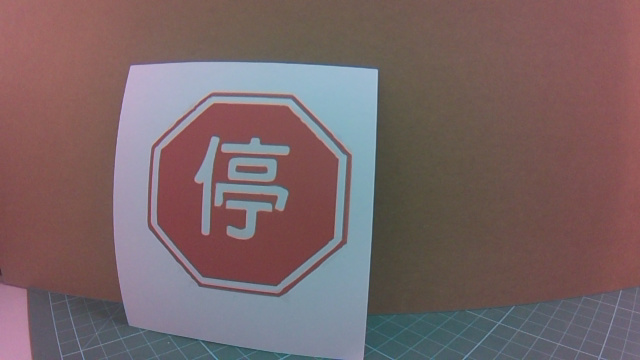stop: (154, 94, 340, 300)
